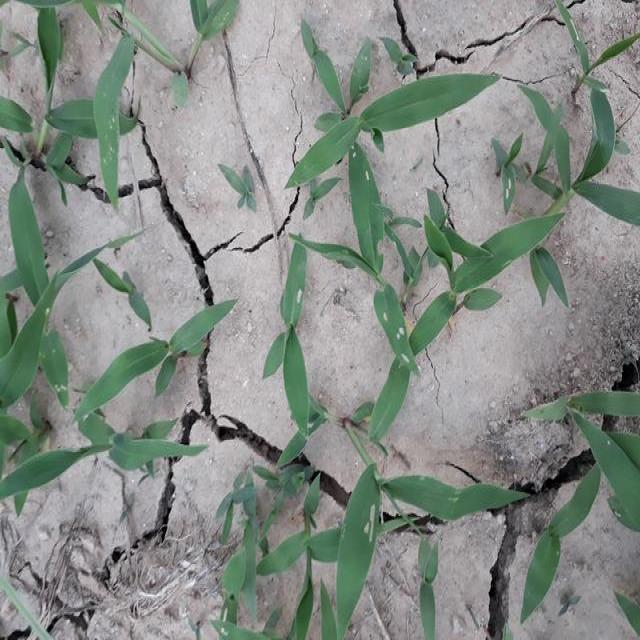weed: (209, 451, 640, 633), (0, 29, 144, 512), (278, 15, 472, 258)
